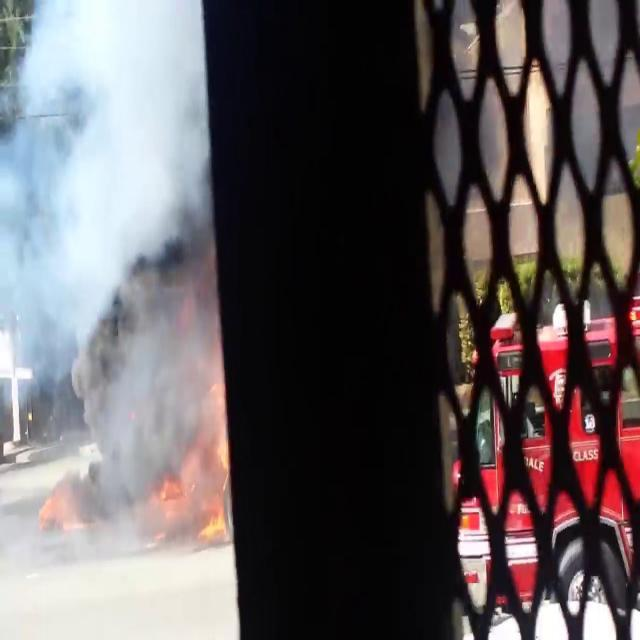Fire: (173, 417, 233, 546)
Smoke: (0, 0, 220, 415)
